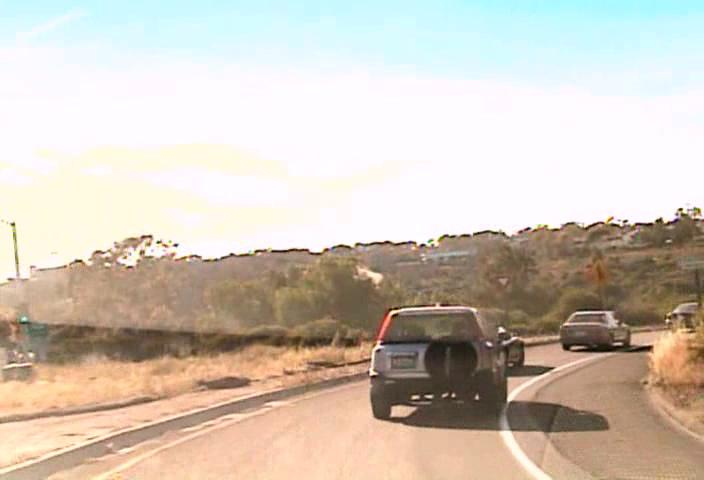yield: (494, 275, 512, 291)
